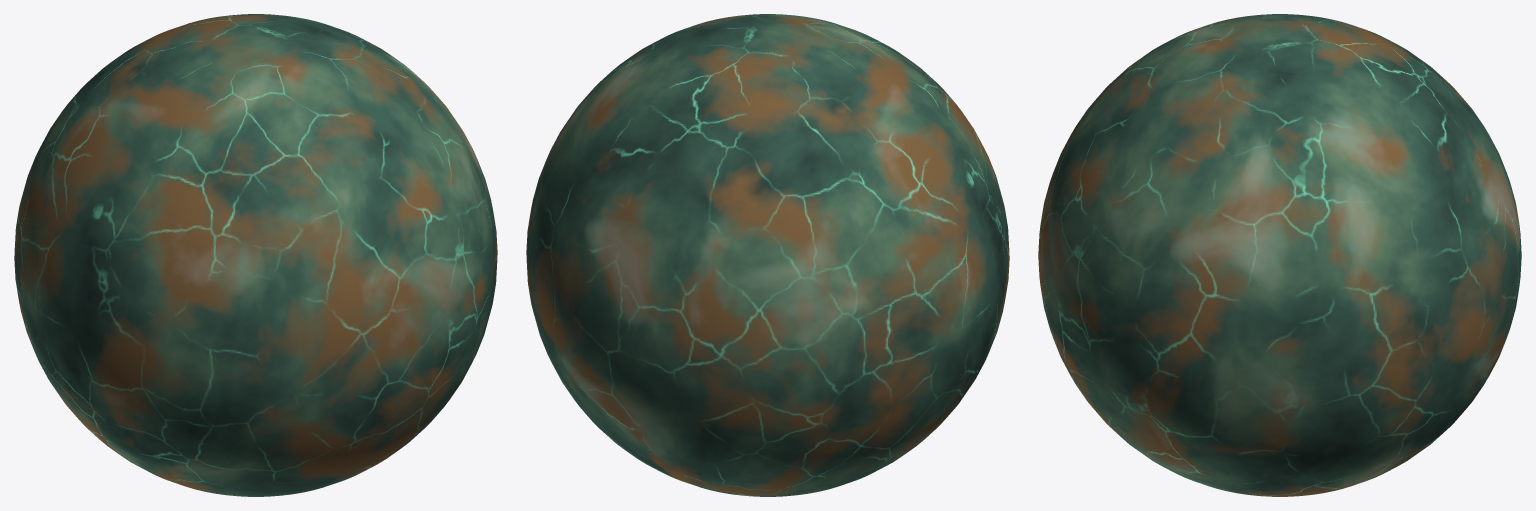
The model's file is xen_planeta.obj.
3 views of the same model, side by side, from view 1: azimuth 30°, elevation 25°; view 2: azimuth 150°, elevation 25°; view 3: azimuth 270°, elevation 25° (orthographic).
Visible parts, largest first — view 1: xen_planeta; view 2: xen_planeta; view 3: xen_planeta.
Boxes of the visible parts, x1=… form: xen_planeta: x1=14, y1=14, x2=497, y2=496; xen_planeta: x1=526, y1=14, x2=1009, y2=496; xen_planeta: x1=1038, y1=14, x2=1521, y2=496.
Size of the model in its own units: 2 by 2 by 2.
